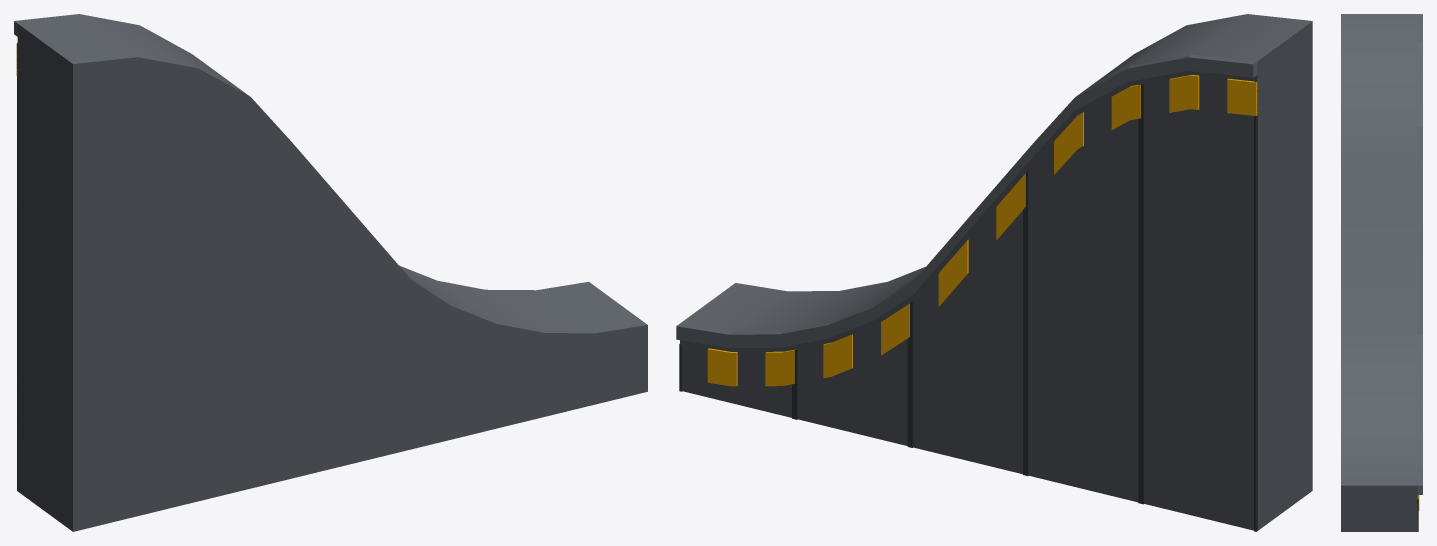
3 renders of one model, left to right at view 1: azimuth 30°, elevation 25°; view 2: azimuth 150°, elevation 25°; view 3: azimuth 270°, elevation 25°, orthographic. The views are drawn at different scales.
Visible parts, largest first — view 1: c3wf; view 2: c3wf; view 3: c3wf.
Boxes of the visible parts, x1,y1,x2,y2 form: c3wf: (14, 14, 647, 531); c3wf: (676, 14, 1312, 531); c3wf: (1341, 14, 1422, 531).
Bounding box in the file's own units: 9 × 7 × 1.6.
